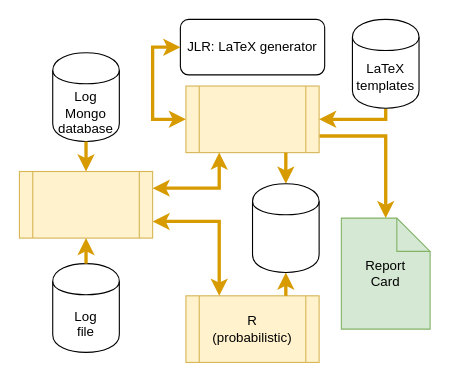
The diagram is 450 pixels wide and 382 high, and some of its shapes have lost their labels. The centre of each missing label's shape, as x and y in pixels:
"Java (templating)" goes at point (252, 119).
"Prolog interface (logic)" goes at point (85, 204).
"Temporary storage" goes at point (285, 228).
